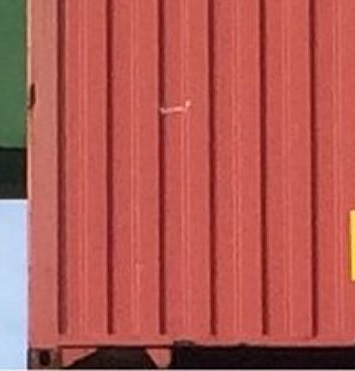container_no_door: (28, 1, 354, 367)
